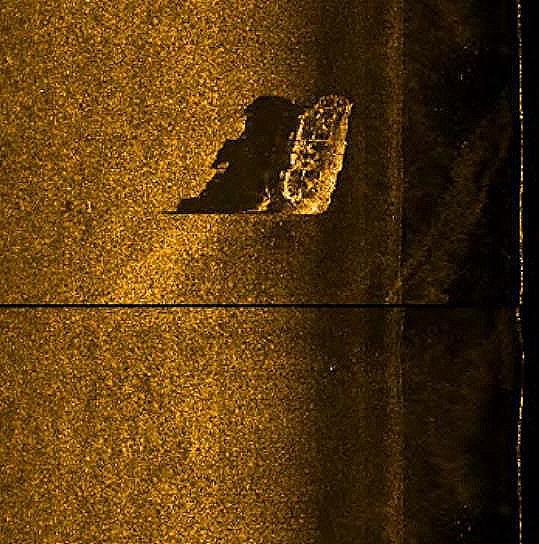ship: (274, 92, 353, 216)
